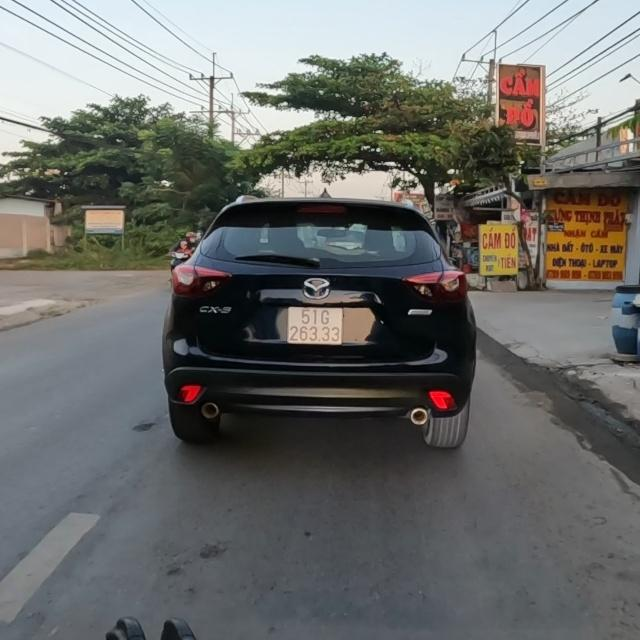license-plate: (282, 304, 346, 348)
